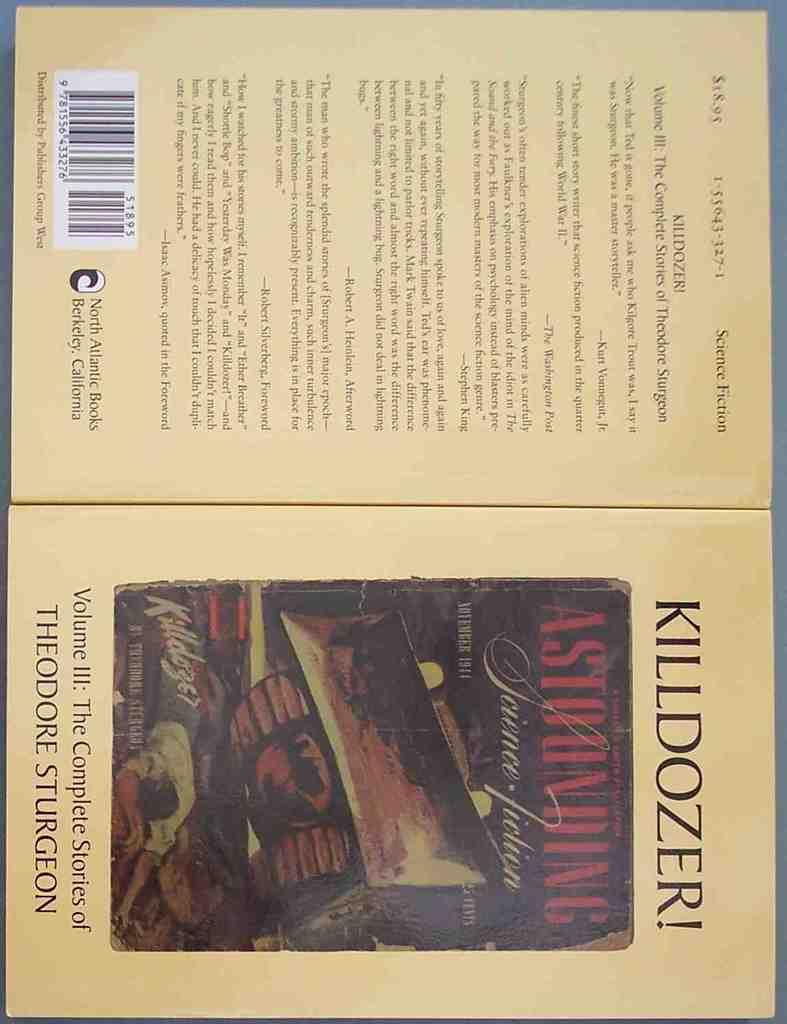book: (24, 67, 734, 991)
